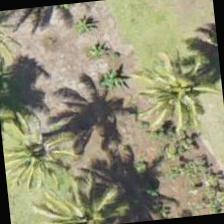Kelapa_Sawit: (129, 44, 223, 145), (0, 108, 90, 206), (37, 174, 134, 223)
